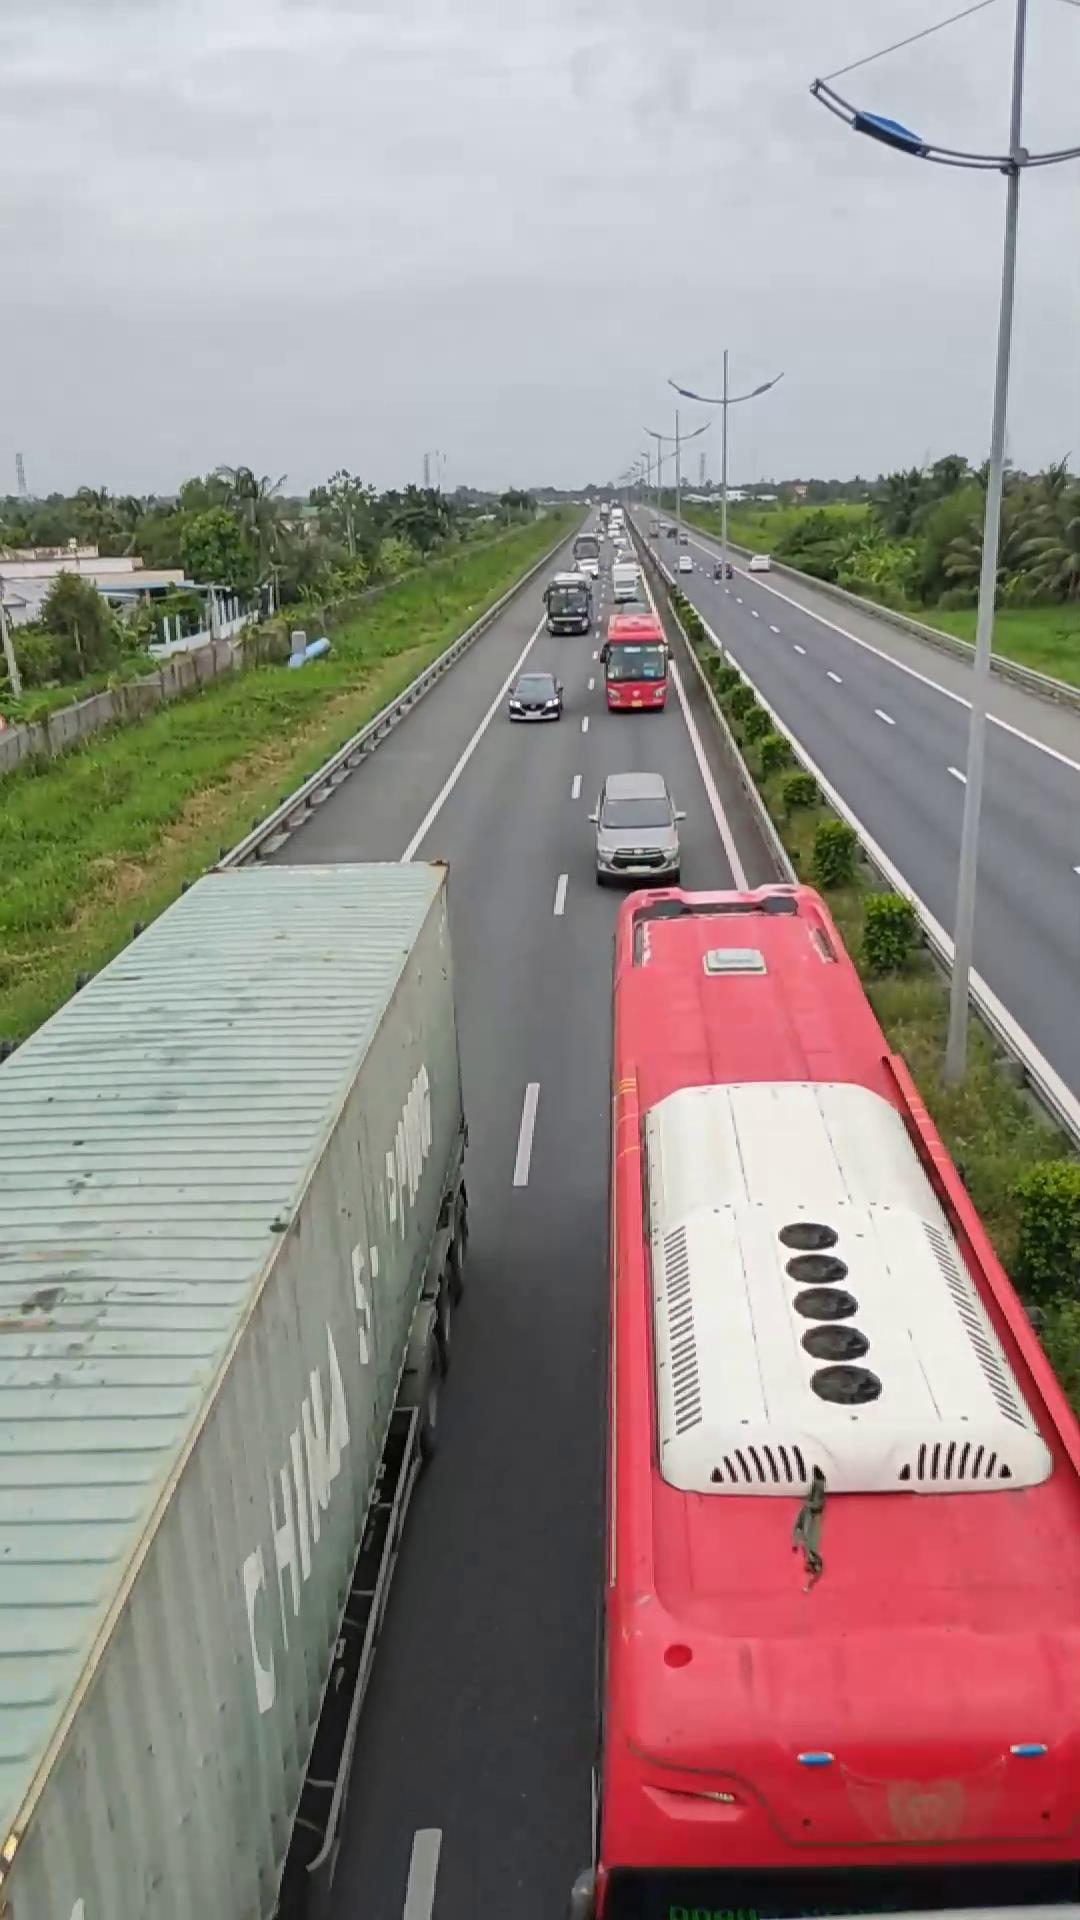bus: (597, 877, 1075, 1903)
car: (585, 770, 684, 886)
container: (0, 862, 471, 1917)
